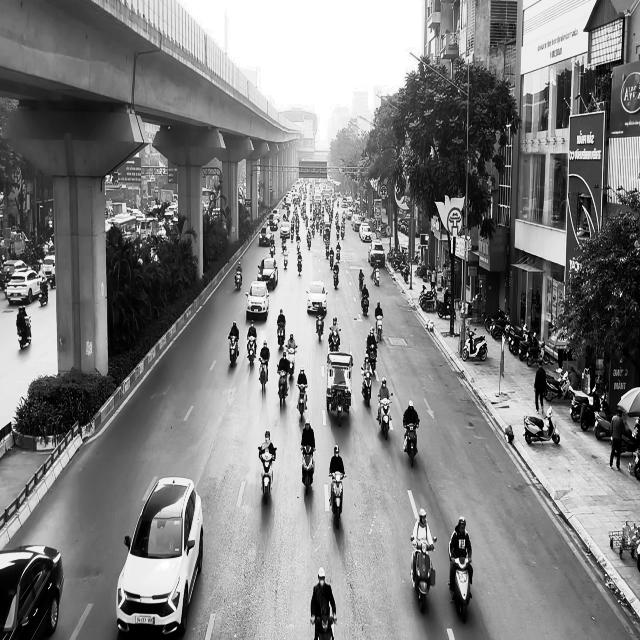car: (116, 475, 204, 637), (0, 544, 65, 639), (246, 280, 270, 321), (306, 280, 328, 314)
motorbike: (410, 534, 438, 614), (449, 553, 473, 622), (523, 406, 560, 444), (258, 445, 277, 504), (329, 472, 346, 528), (462, 328, 488, 361), (300, 445, 316, 495), (403, 420, 420, 467), (377, 393, 394, 439), (277, 365, 290, 408), (17, 315, 32, 349), (296, 383, 308, 419), (286, 344, 298, 378), (362, 368, 372, 407), (228, 335, 240, 365), (259, 356, 269, 391), (247, 336, 257, 368), (329, 327, 341, 352), (367, 342, 377, 372), (316, 314, 325, 342), (277, 322, 286, 348), (235, 261, 243, 290), (361, 291, 370, 316), (376, 315, 383, 340), (297, 252, 303, 275), (283, 248, 288, 269)
